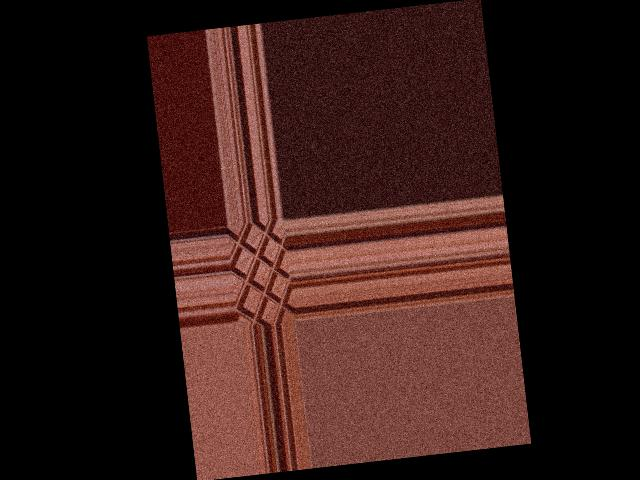chocolate: (226, 222, 293, 328)
